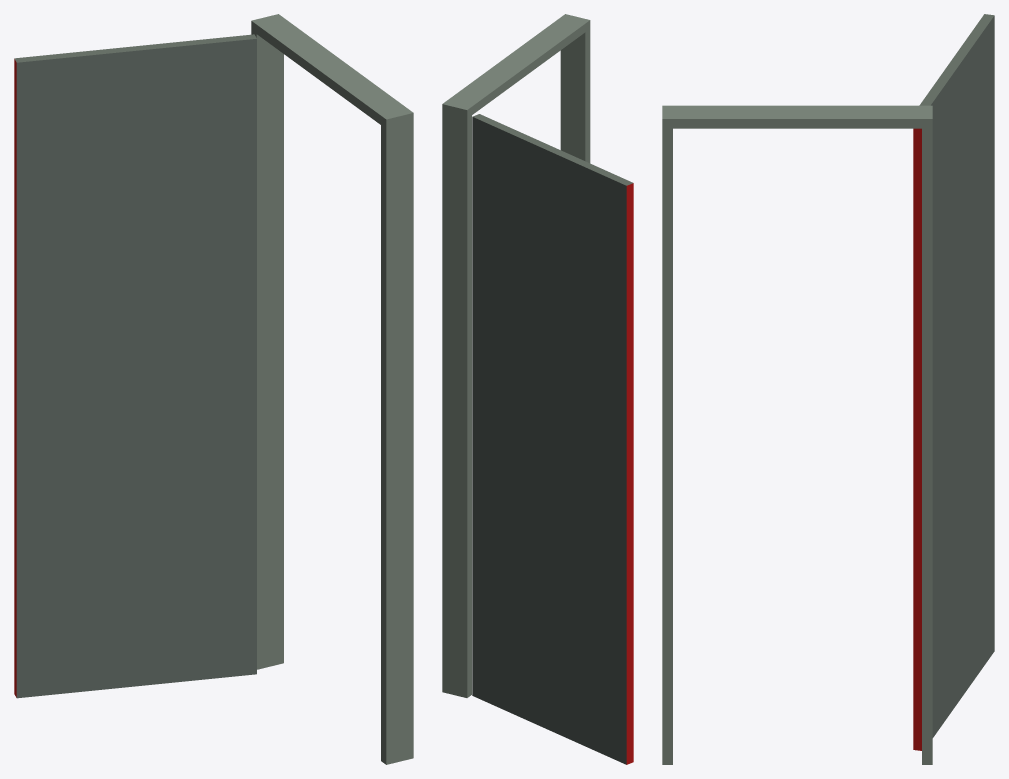
The model's file is DoorST_RH.fbx.
3 views of the same model, side by side, from view 1: azimuth 30°, elevation 25°; view 2: azimuth 150°, elevation 25°; view 3: azimuth 270°, elevation 25° (orthographic). The views are drawn at different scales.
Parts seen in each view (by area): view 1: DoorST_RH; view 2: DoorST_RH; view 3: DoorST_RH.
Boxes of the visible parts, x1,y1,x2,y2 form: DoorST_RH: (14,14,413,764); DoorST_RH: (442,14,633,764); DoorST_RH: (662,14,994,764).
Size of the model in its own units: 30.58 by 79.95 by 37.27.
